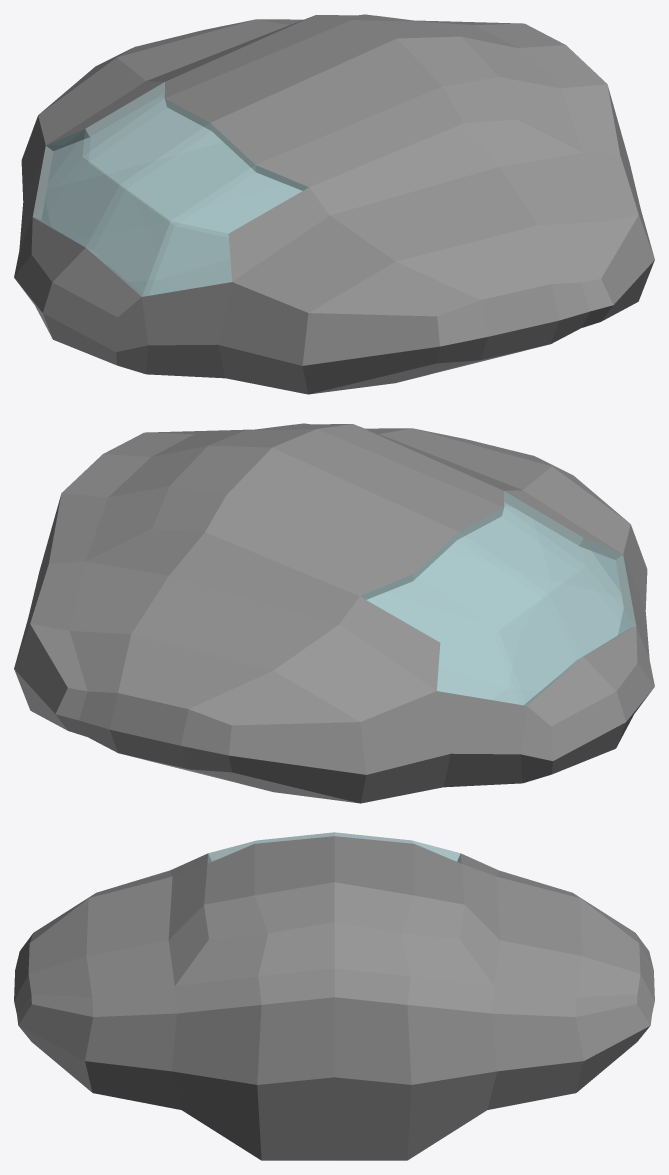
The model's file is ship.glb.
The picture shows the model from 3 angles, top to bottom: view 1: azimuth 30°, elevation 25°; view 2: azimuth 150°, elevation 25°; view 3: azimuth 270°, elevation 25°; orthographic projection. The views are drawn at different scales.
Parts seen in each view (by area): view 1: Ship.001, Ship; view 2: Ship.001, Ship; view 3: Ship.001, Door, Ship.
Boxes of the visible parts, x1=… form: Ship.001: x1=14, y1=14, x2=654, y2=394; Ship: x1=33, y1=82, x2=308, y2=296; Ship.001: x1=14, y1=423, x2=654, y2=803; Ship: x1=360, y1=491, x2=635, y2=705; Ship.001: x1=14, y1=836, x2=654, y2=1160; Door: x1=257, y1=997, x2=411, y2=1160; Ship: x1=208, y1=832, x2=460, y2=863.
Size of the model in its own units: 9.55 by 4.01 by 11.06.
